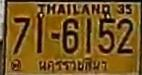1: (36, 15, 43, 52), (86, 18, 90, 52)
2: (116, 18, 132, 53)
5: (97, 17, 114, 52)
6: (62, 18, 78, 52)
7: (13, 16, 29, 54)
NMA: (34, 56, 110, 73)
